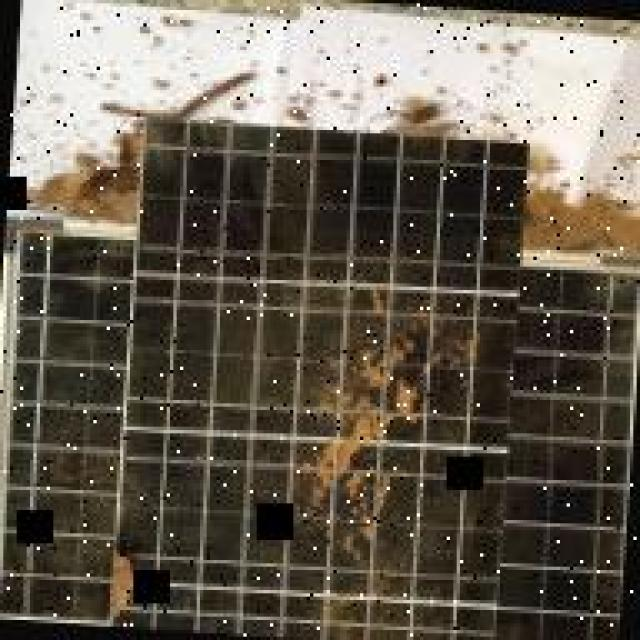dust-solar-panel: (1, 121, 640, 640)
